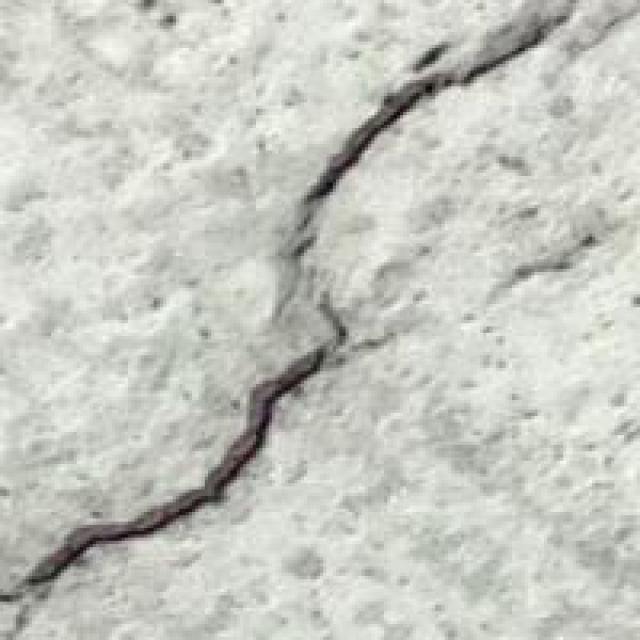crack: (0, 0, 582, 633)
